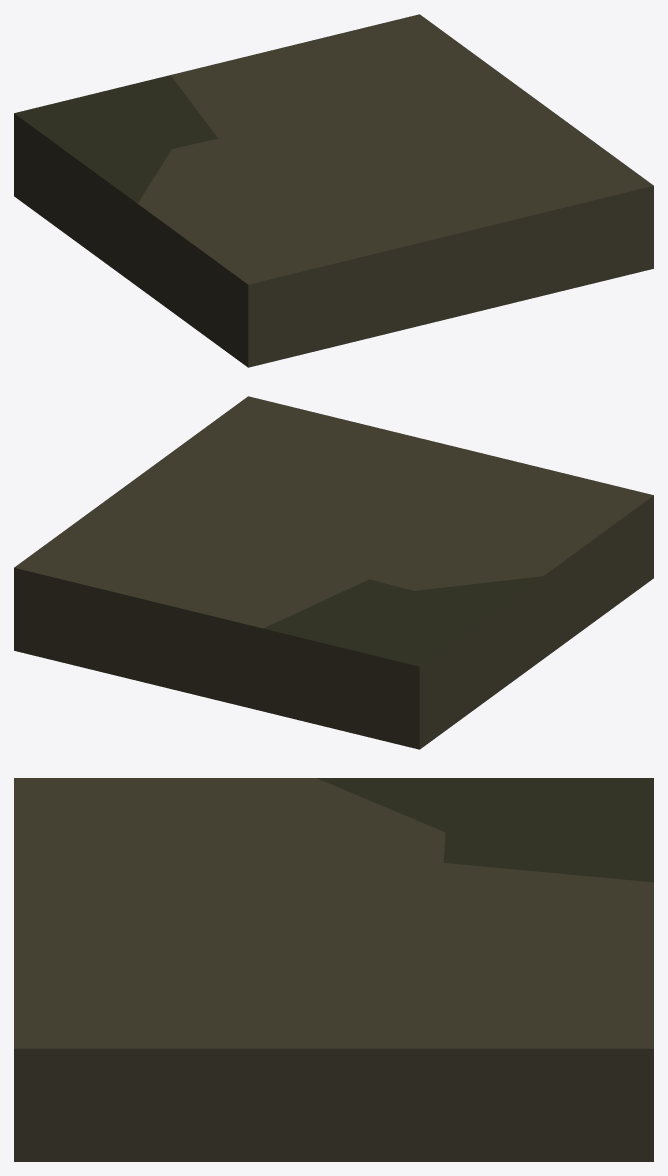
Rendered from Ground_2_5.glb.
The picture shows the model from 3 angles, top to bottom: view 1: azimuth 30°, elevation 25°; view 2: azimuth 150°, elevation 25°; view 3: azimuth 270°, elevation 25°; orthographic projection. The views are drawn at different scales.
Parts seen in each view (by area): view 1: Ground_2_5; view 2: Ground_2_5; view 3: Ground_2_5.
Part boxes in pixels (x1,y1,x2,y2): Ground_2_5: (14, 14, 653, 367); Ground_2_5: (14, 396, 653, 749); Ground_2_5: (14, 778, 653, 1161).
Size of the model in its own units: 2 by 0.3912 by 2.
Materials: 1 (1 with a texture image).
